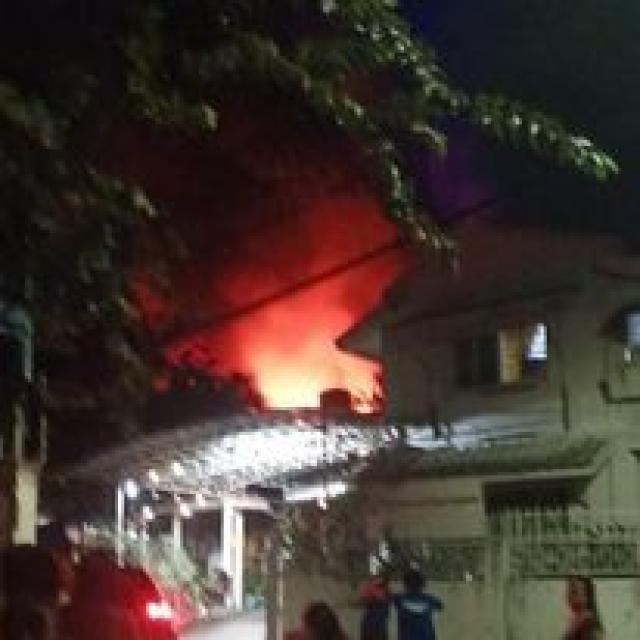Fire: (228, 291, 406, 434)
